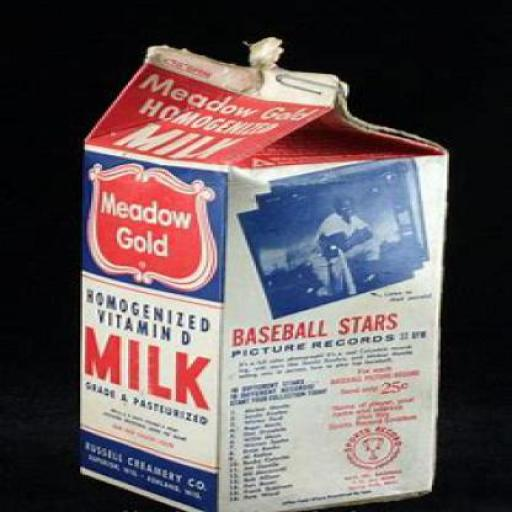drink carton: (81, 34, 451, 512)
